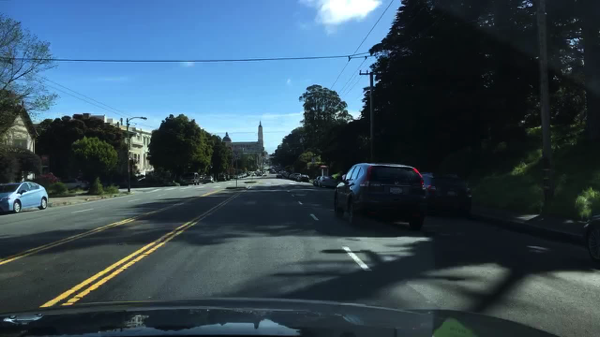car: (333, 164, 424, 230), (418, 170, 474, 220), (1, 181, 47, 213), (581, 214, 599, 270), (61, 176, 92, 190), (180, 171, 199, 186), (316, 176, 338, 187), (296, 174, 310, 182), (203, 174, 213, 184), (313, 176, 322, 186), (293, 172, 301, 181), (198, 175, 207, 182), (276, 171, 283, 179), (233, 174, 240, 180), (219, 175, 226, 181), (257, 170, 263, 177), (288, 172, 293, 180), (284, 172, 289, 179), (225, 174, 230, 180), (281, 170, 286, 176), (251, 171, 256, 177), (243, 173, 248, 177), (241, 173, 243, 178)
